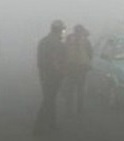person: (36, 17, 68, 131), (65, 22, 94, 128)
